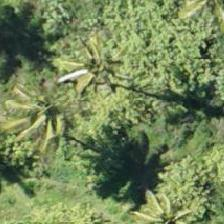coconut_tree: (56, 18, 146, 108), (0, 78, 77, 168), (123, 174, 213, 223)
